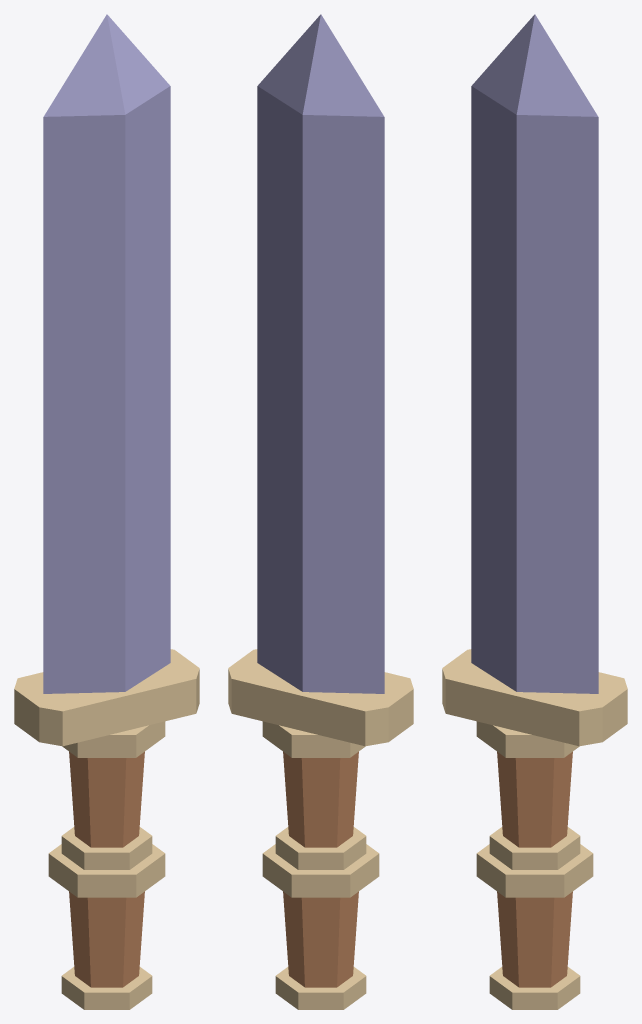
The model's file is Sword.obj.
The picture shows the model from 3 angles, left to right: view 1: azimuth 30°, elevation 25°; view 2: azimuth 150°, elevation 25°; view 3: azimuth 330°, elevation 25°; orthographic projection.
Visible parts, largest first — view 1: mergedBlocks; view 2: mergedBlocks; view 3: mergedBlocks.
Boxes of the visible parts, left/top/right/bottom form: mergedBlocks: left=14, top=14, right=199, bottom=1009; mergedBlocks: left=228, top=14, right=413, bottom=1009; mergedBlocks: left=442, top=14, right=627, bottom=1009.
Bounding box in the file's own units: 0.48 × 2.8 × 0.3024.
